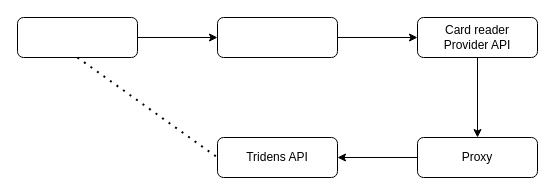
Image size: 555x195. Some labels were removed from this diagram. Here are the shapes that lost their labels. From the top down, the box of each, then its label:
(16, 16, 138, 58): Charger
(216, 16, 338, 58): Card reader
